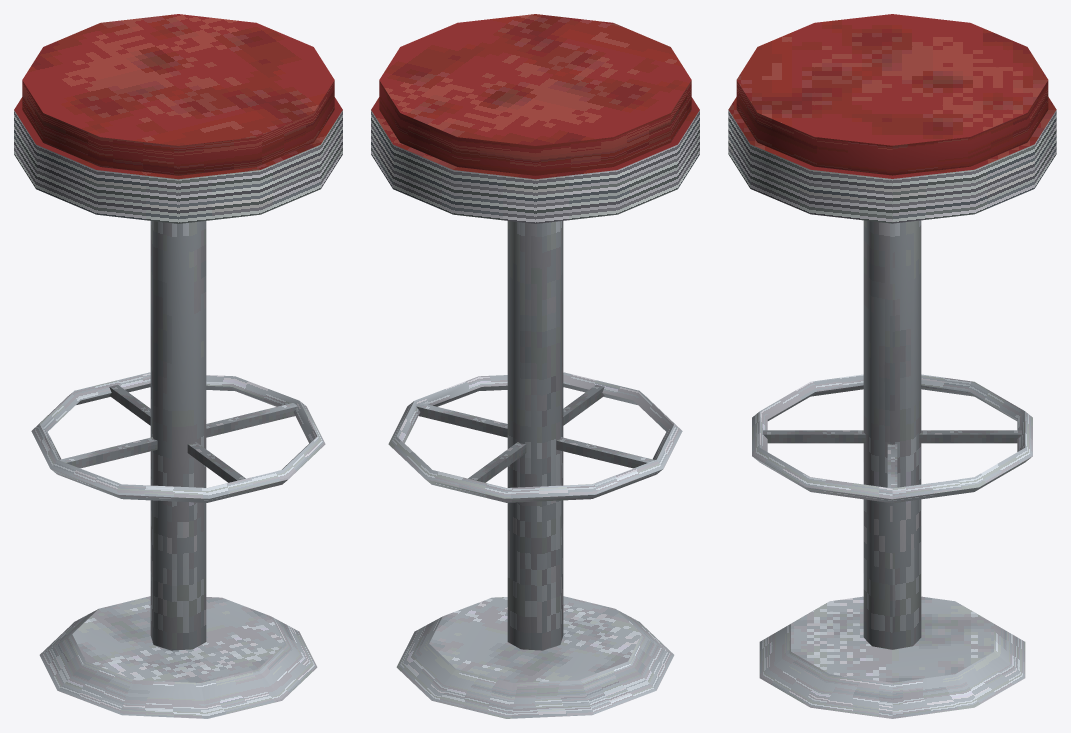
Rendered from stool_red.glb.
3 renders of one model, left to right at view 1: azimuth 30°, elevation 25°; view 2: azimuth 150°, elevation 25°; view 3: azimuth 270°, elevation 25°, orthographic.
Visible parts, largest first — view 1: stool_red, stool_red_seat; view 2: stool_red, stool_red_seat; view 3: stool_red, stool_red_seat.
Boxes of the visible parts, x1,y1,x2,y2 form: stool_red: (31, 221, 325, 718); stool_red_seat: (14, 14, 342, 223); stool_red: (388, 221, 682, 718); stool_red_seat: (371, 14, 699, 223); stool_red: (752, 220, 1032, 718); stool_red_seat: (728, 14, 1056, 223).
Bounding box in the file's own units: 0.4 × 0.78 × 0.4.
2 materials, 2 textured.
